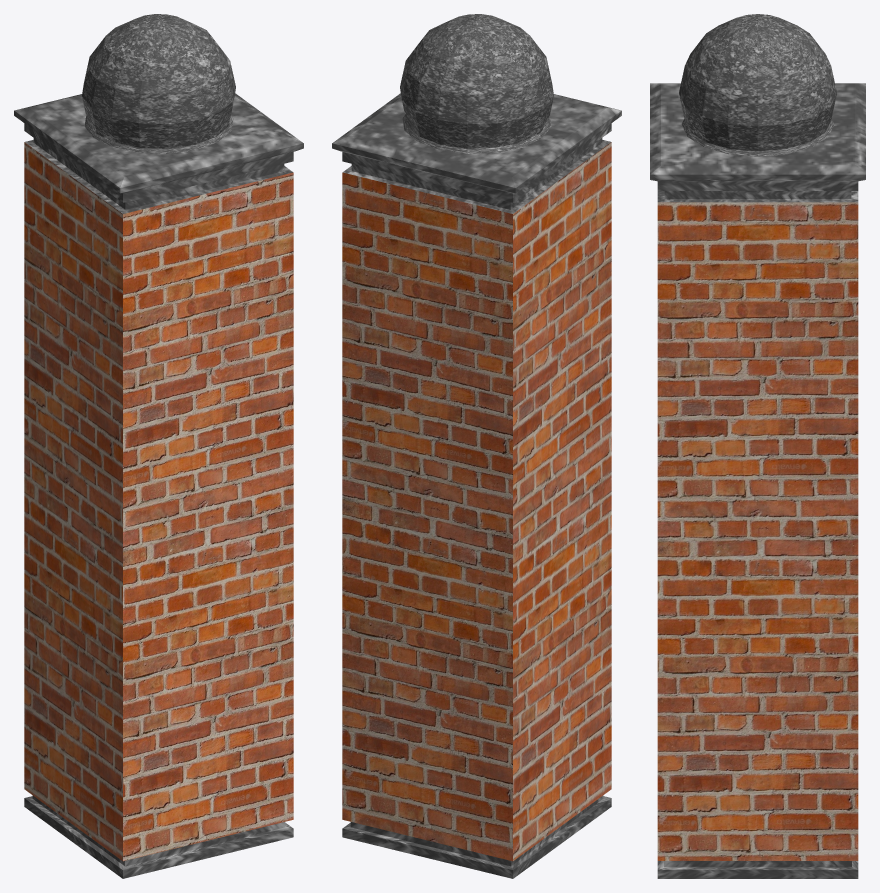
Rendered from Column_Square.fbx.
3 views of the same model, side by side, from view 1: azimuth 30°, elevation 25°; view 2: azimuth 150°, elevation 25°; view 3: azimuth 270°, elevation 25° (orthographic).
Visible parts, largest first — view 1: Column_Square_LOD0; view 2: Column_Square_LOD0; view 3: Column_Square_LOD0.
Part boxes in pixels (bbox=[...]): Column_Square_LOD0: bbox=[14, 14, 303, 878]; Column_Square_LOD0: bbox=[332, 14, 621, 878]; Column_Square_LOD0: bbox=[650, 14, 865, 878].
Size of what is drawn, in the model's own units: 359 by 1495 by 359.
